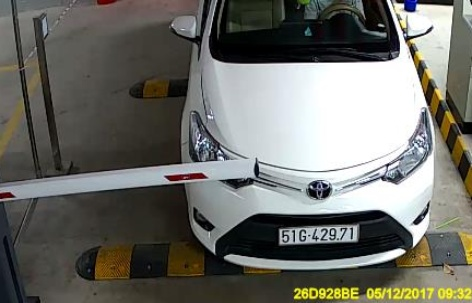plate: (274, 222, 364, 248)
